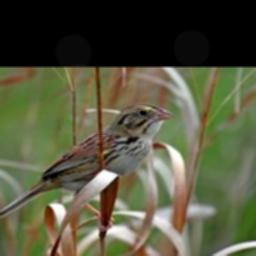Sparrow: (0, 103, 178, 231)
